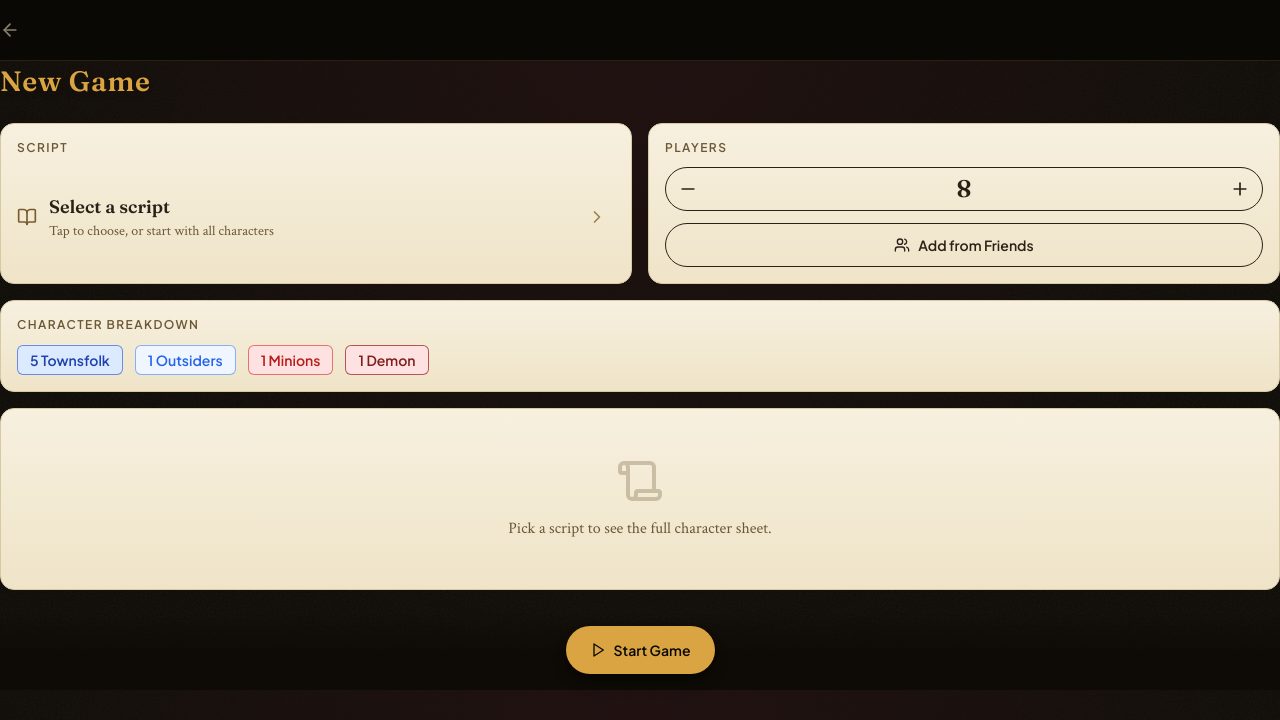
Test: SetupWizard add from friends › shows an empty state hinting at Manage Friends when no friends exist
Click the button with test id "button-add-from-friends" at (964, 245), box x1=665 y1=223 x2=1263 y2=267
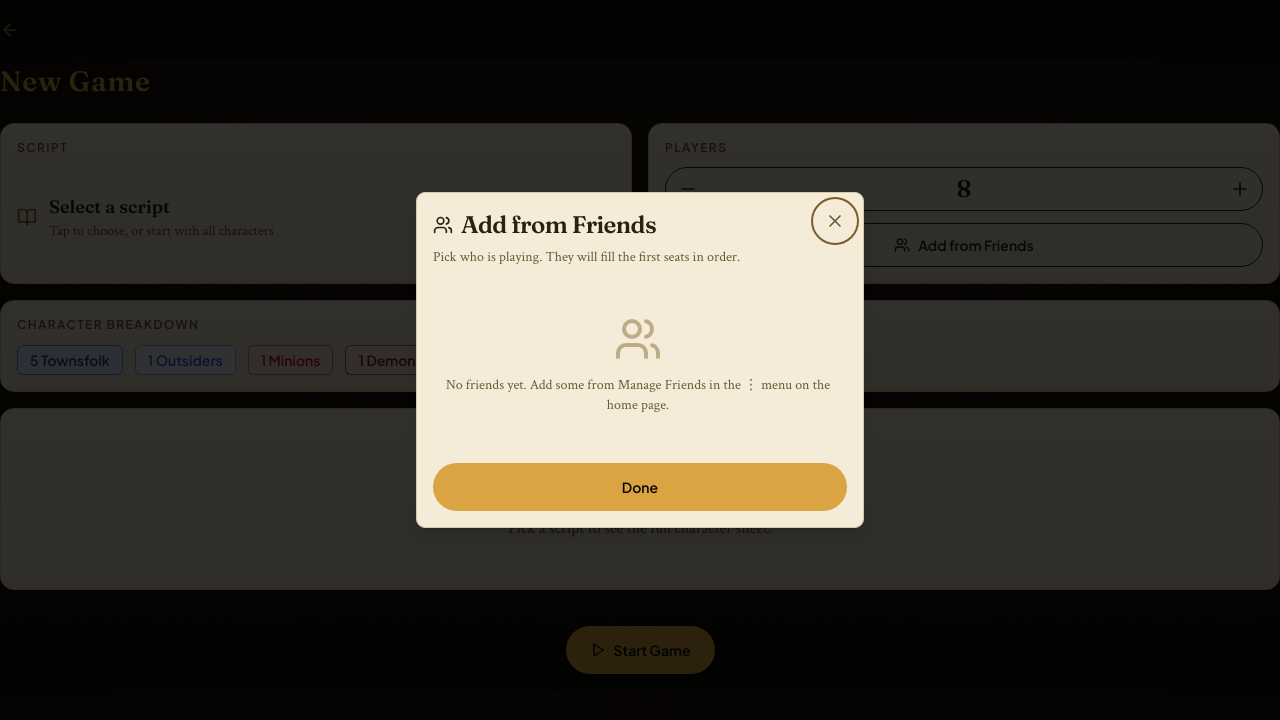
Expected: the element with test id "text-friends-picker-empty" shows "Manage Friends", x1=446 y1=376 x2=830 y2=414
